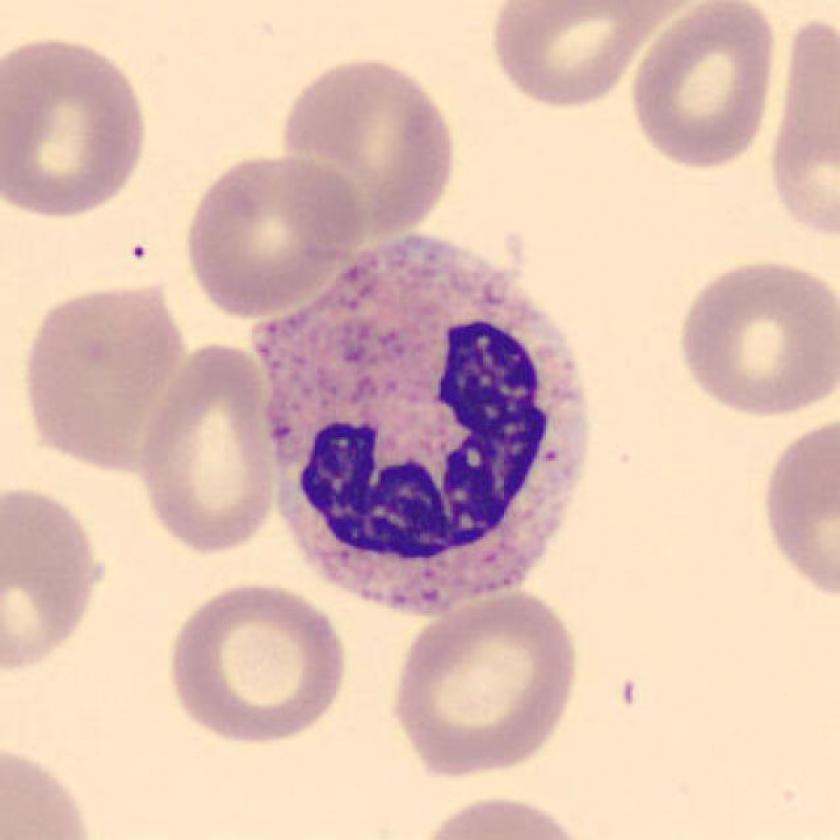neutrophil: (254, 235, 589, 615)
